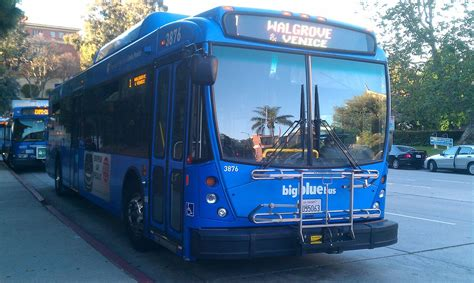bus: (47, 32, 392, 252), (1, 97, 47, 168)
car: (424, 145, 474, 172)
